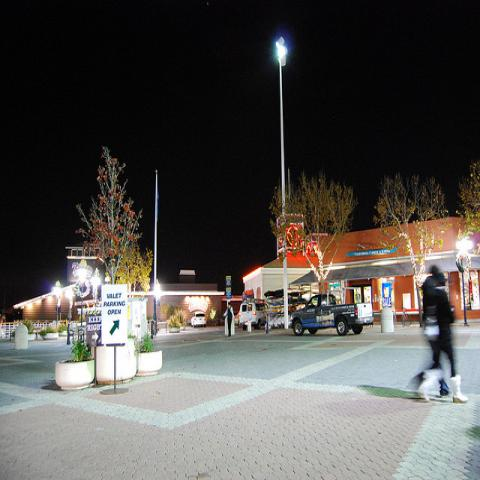car: (191, 311, 206, 328)
truck: (288, 292, 374, 336), (238, 298, 266, 332)
